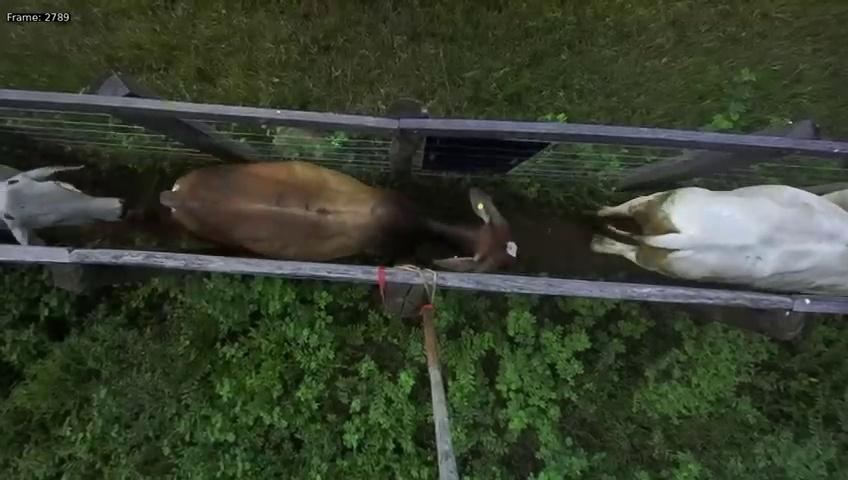cattle: (153, 153, 530, 284)
